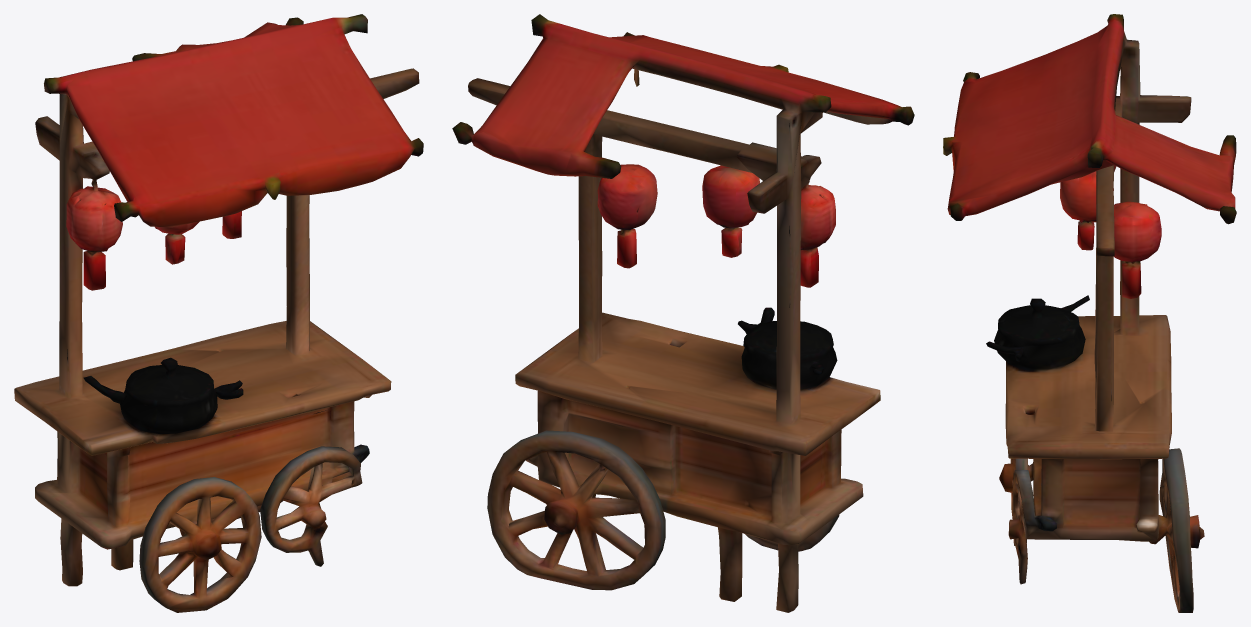
Rendered from yatai_stall.glb.
The picture shows the model from 3 angles, left to right: view 1: azimuth 30°, elevation 25°; view 2: azimuth 150°, elevation 25°; view 3: azimuth 270°, elevation 25°; orthographic projection. The views are drawn at different scales.
Parts seen in each view (by area): view 1: yatai_stall; view 2: yatai_stall; view 3: yatai_stall.
Part boxes in pixels (x1,y1,x2,y2): yatai_stall: (14,14,423,612); yatai_stall: (452,14,914,612); yatai_stall: (943,14,1236,612).
Size of the model in its own units: 1.95 by 2.6 by 1.43.
Materials: 1 (1 with a texture image).
